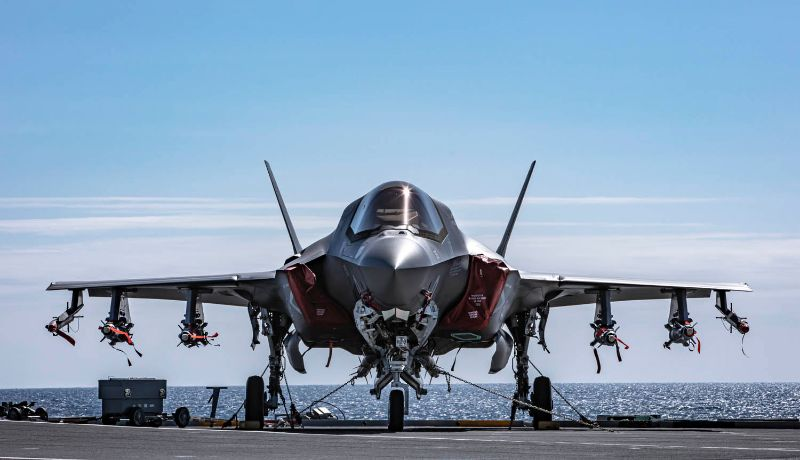F-35 Lightning: (31, 139, 769, 434)
